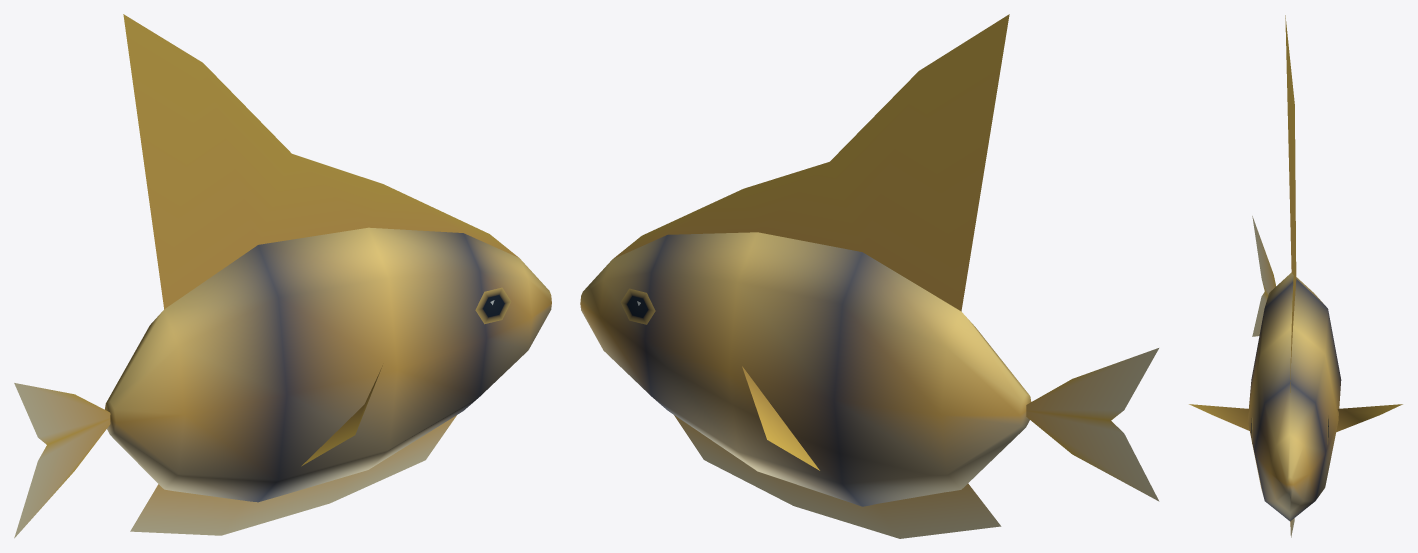
Rendered from fish-sun-banner.glb.
The picture shows the model from 3 angles, left to right: view 1: azimuth 30°, elevation 25°; view 2: azimuth 150°, elevation 25°; view 3: azimuth 270°, elevation 25°; orthographic projection. The views are drawn at different scales.
Visible parts, largest first — view 1: fish-sun-banner.002; view 2: fish-sun-banner.002; view 3: fish-sun-banner.002.
Boxes of the visible parts, box(x1,y1,x2,y2) form: fish-sun-banner.002: box(14, 14, 551, 538); fish-sun-banner.002: box(580, 14, 1159, 538); fish-sun-banner.002: box(1189, 15, 1402, 537).
Bounding box in the file's own units: 1.5 × 1.41 × 0.64.
